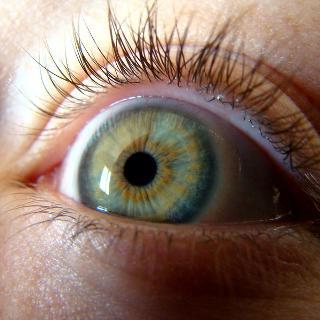pupil: (123, 152, 157, 186)
